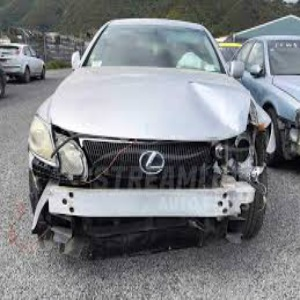bonnet: (175, 73, 276, 143)
bumper: (32, 215, 218, 253)
head_lights: (28, 123, 88, 184)
